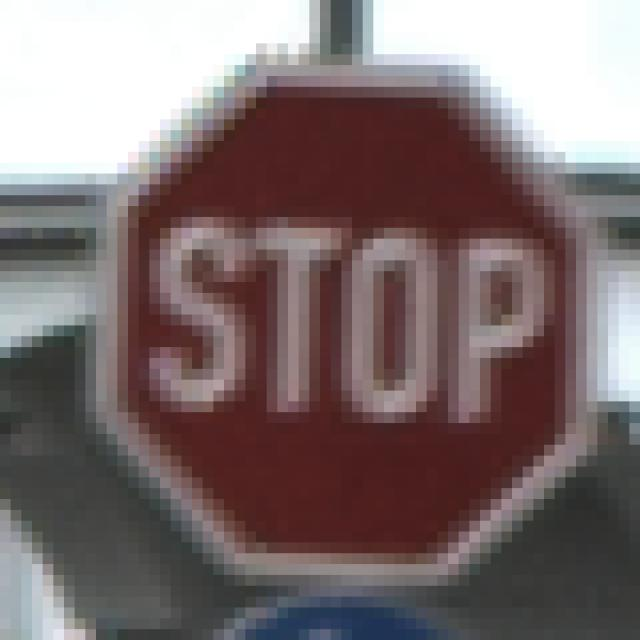STOP: (65, 55, 577, 587)
